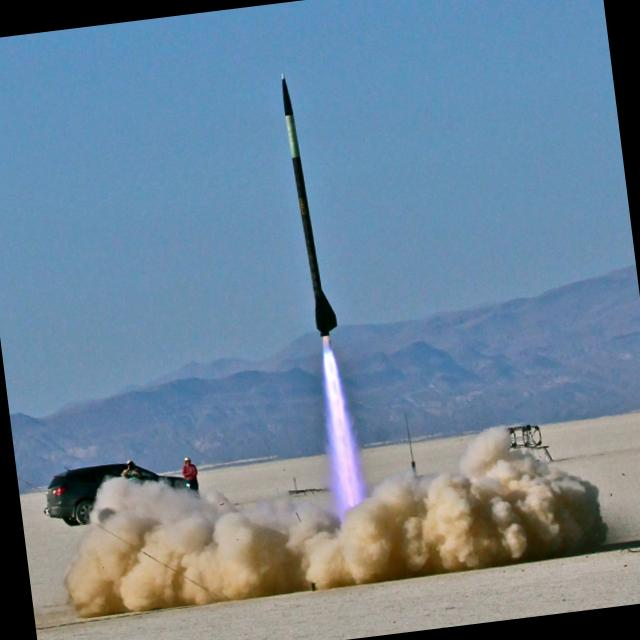rocket: (265, 66, 363, 498)
